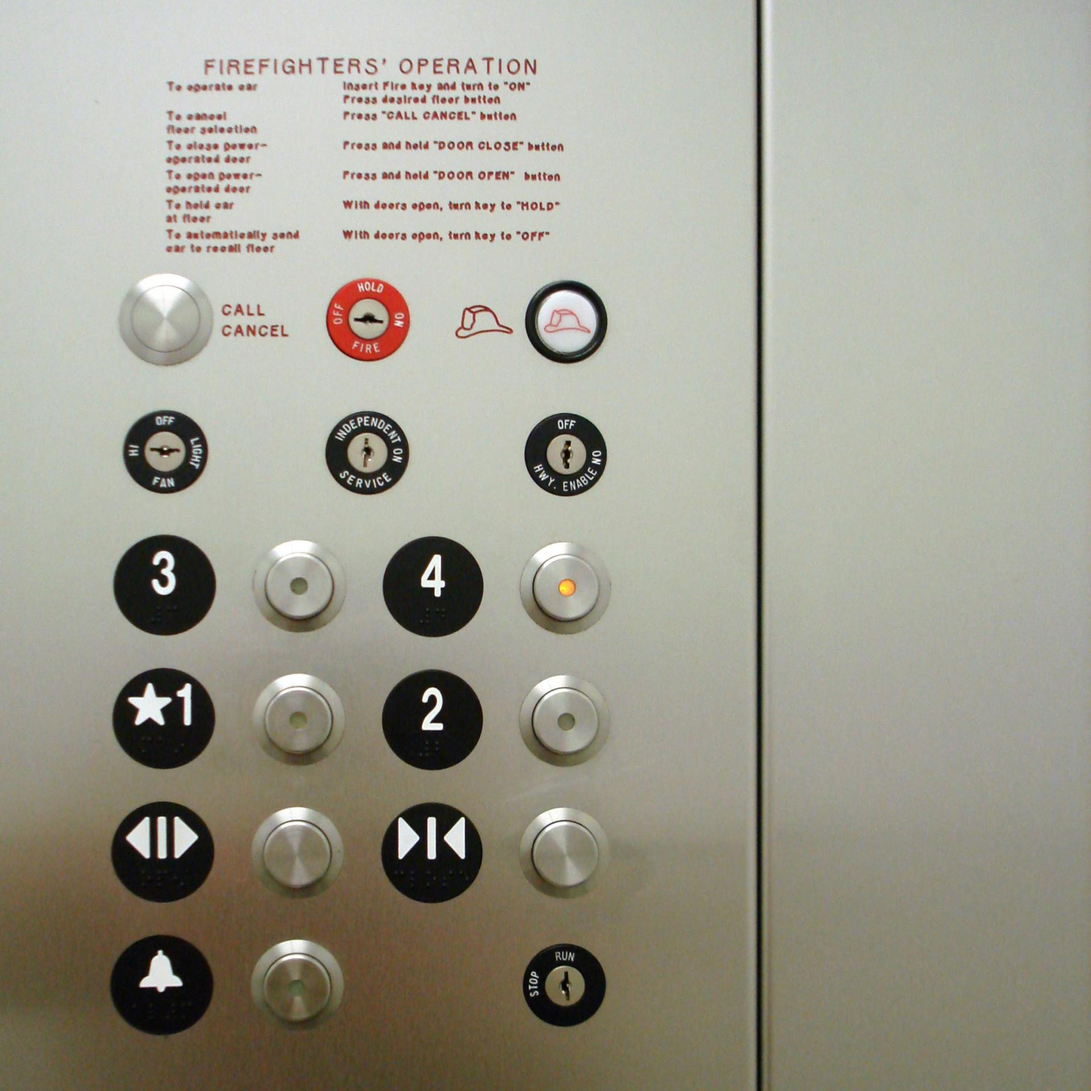2: (380, 667, 485, 772)
3: (112, 532, 218, 639)
4: (381, 533, 484, 639)
alarm: (105, 928, 217, 1039)
close: (377, 797, 486, 905)
keyhole: (118, 406, 211, 497), (519, 938, 610, 1031), (322, 274, 412, 367), (323, 405, 411, 497), (524, 411, 611, 498)
open: (107, 796, 218, 906)
unknown: (111, 666, 217, 769), (244, 934, 348, 1036), (247, 669, 348, 771), (248, 801, 346, 904), (515, 672, 613, 772), (519, 539, 614, 636), (116, 270, 211, 365), (516, 805, 611, 900), (252, 538, 347, 632), (524, 277, 609, 365)
